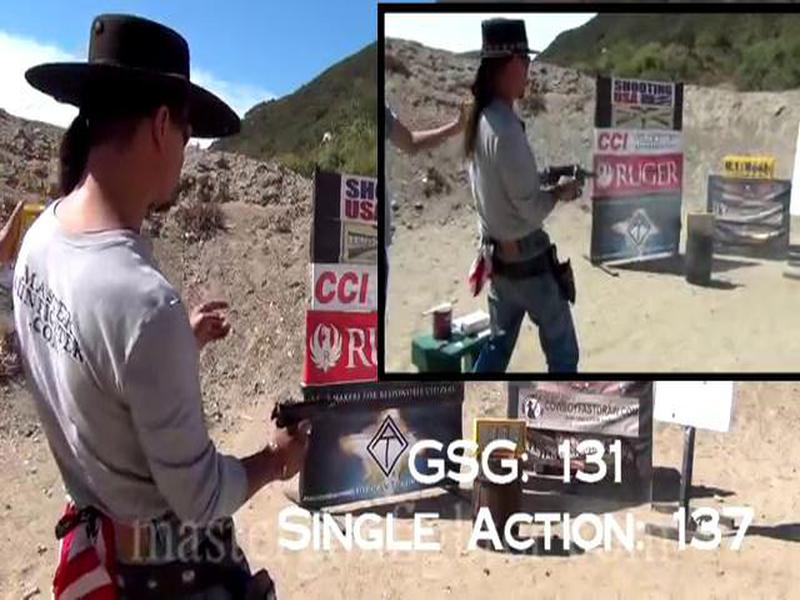Pistola: (261, 389, 351, 481)
